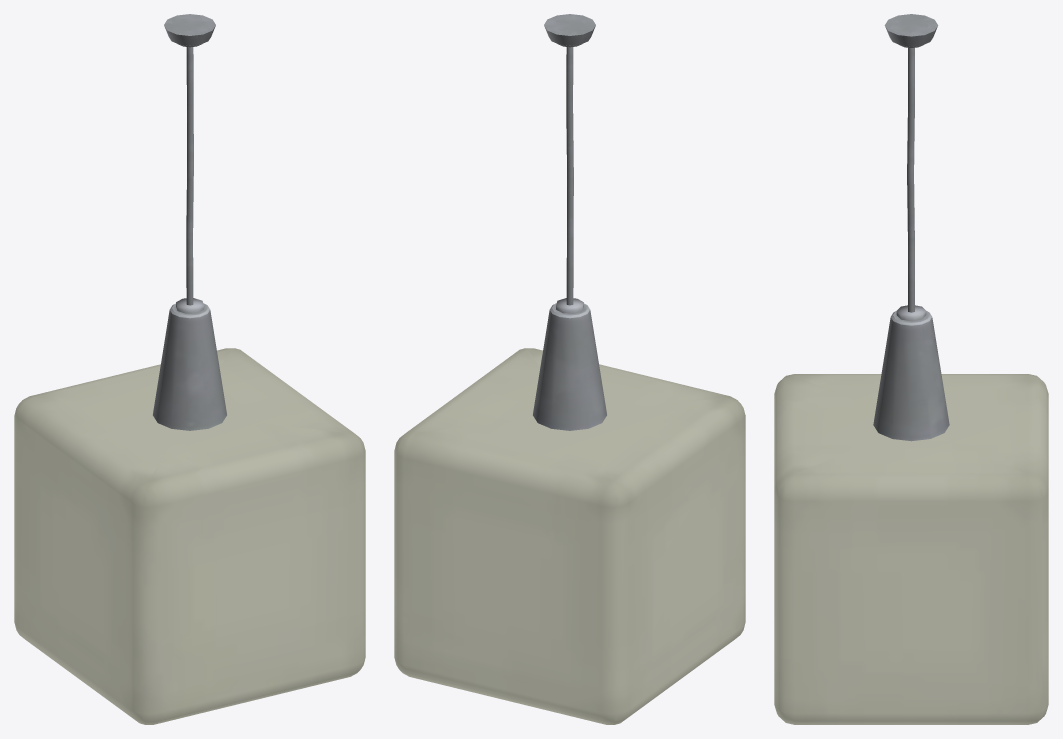
3 views of the same model, side by side, from view 1: azimuth 30°, elevation 25°; view 2: azimuth 150°, elevation 25°; view 3: azimuth 270°, elevation 25° (orthographic). The views are drawn at different scales.
Bounding box in the file's own units: 5.5 × 14.34 × 5.5.
2 materials, 2 textured.
